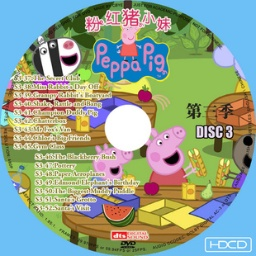Peppa: (142, 127, 193, 186)
